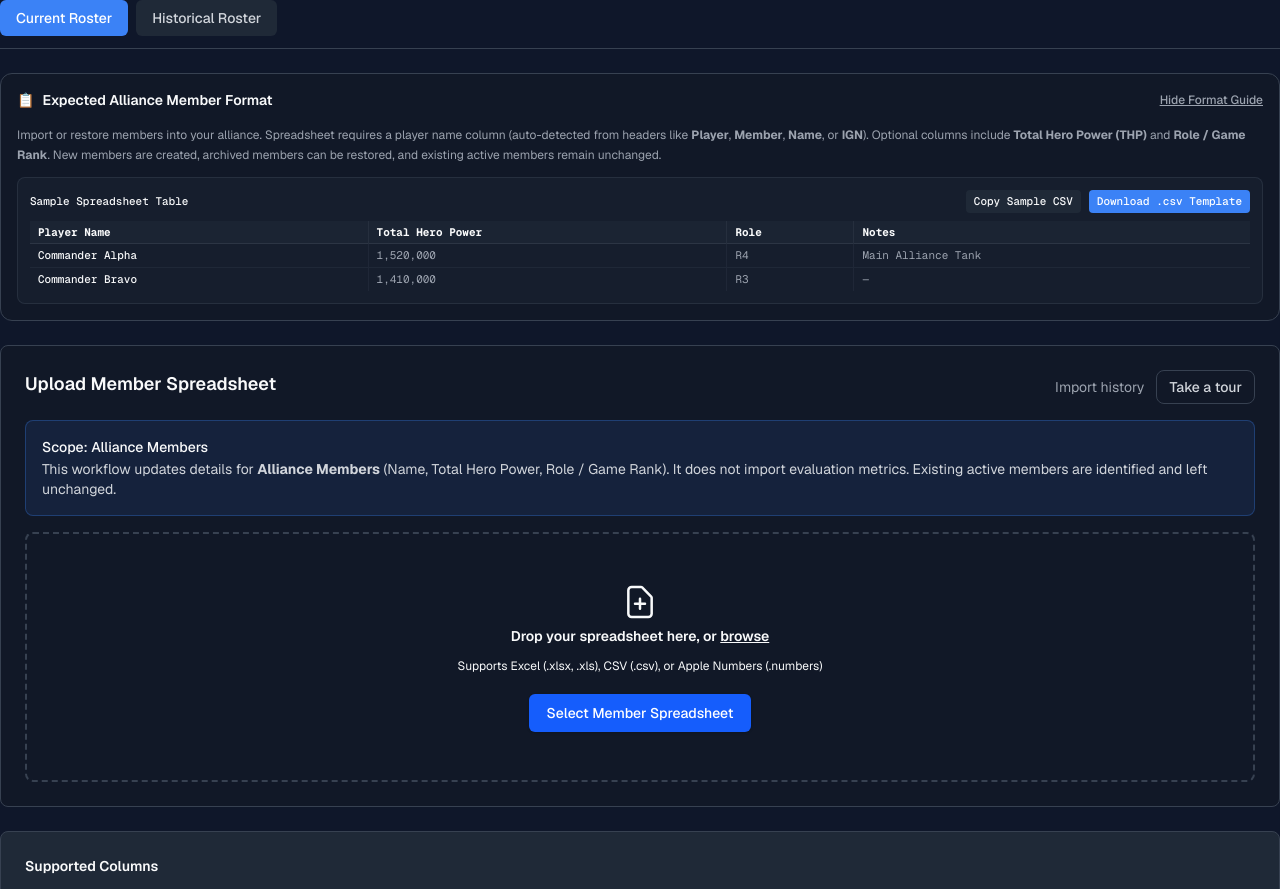
Test case: ImportModeSwitcher [component] › shows the Historical Roster tab with canManageMembers and switches forms on click
This screenshot has width=1280, height=889.
Click the button "Historical Roster" at (207, 18), box [136,0,277,36]
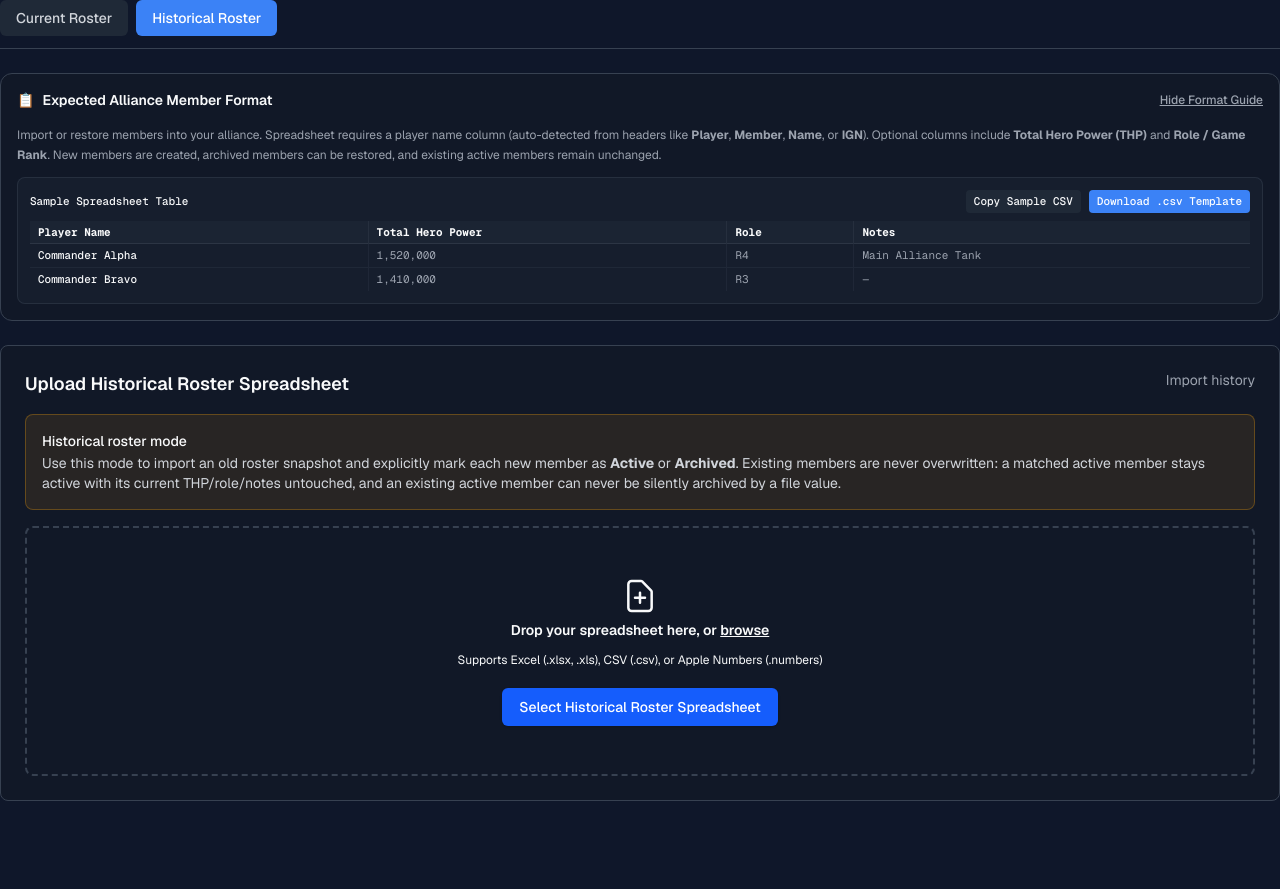
Result: the text "Historical roster mode" is shown at [42,432,187,450]
Result: the text "Scope: Alliance Members" is gone
